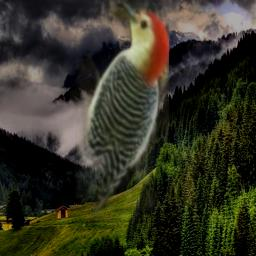Woodpecker: (45, 0, 169, 256)
